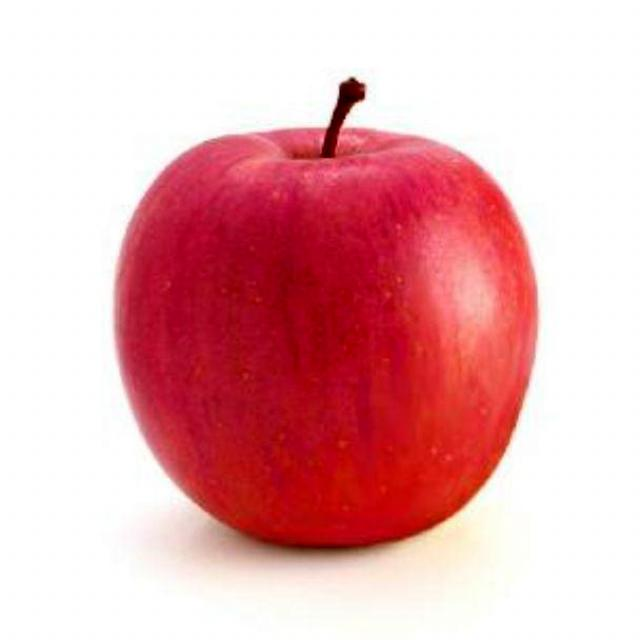HEALTHY: (93, 104, 567, 560)
